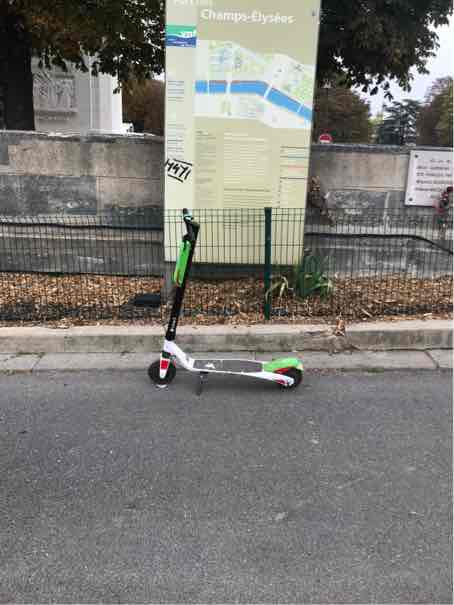scooter: (146, 210, 301, 386)
